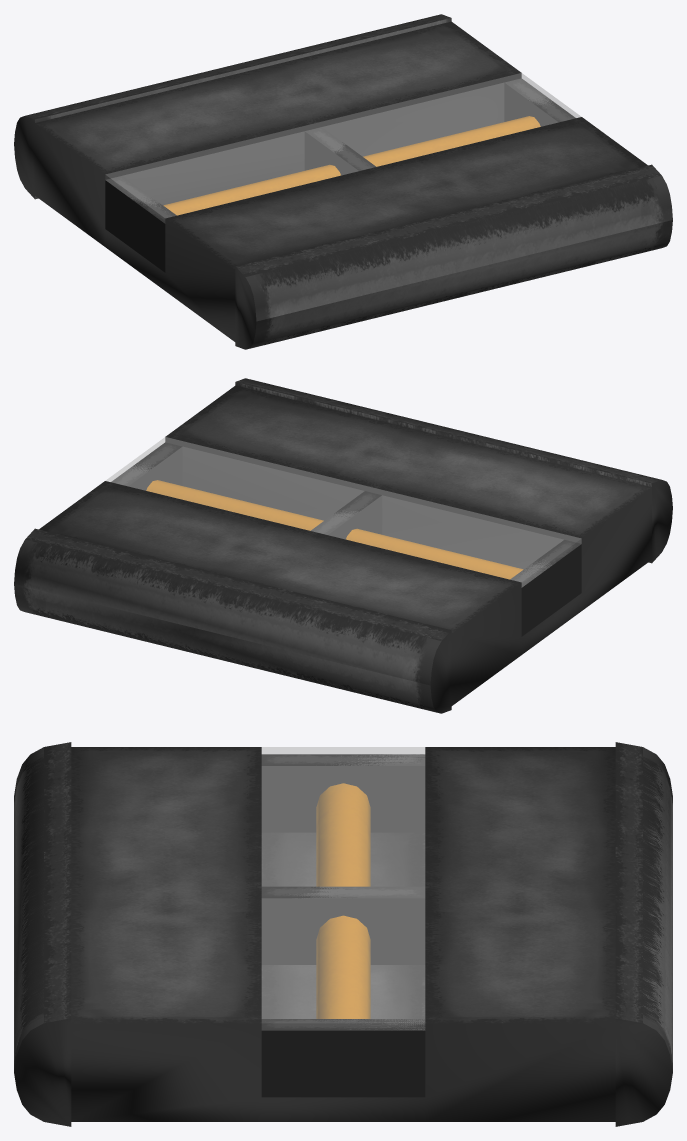
Rendered from platfrom12x12.fbx.
3 views of the same model, one above another, from view 1: azimuth 30°, elevation 25°; view 2: azimuth 150°, elevation 25°; view 3: azimuth 270°, elevation 25° (orthographic). The views are drawn at different scales.
Visible parts, largest first — view 1: Cube.009, Cube.010, Cylinder.001, Cube.008, Cube.006, Cube.005; view 2: Cube.009, Cube.010, Cylinder.001, Cube.008, Cube.006, Cube.005; view 3: Cube.009, Cube.010, Cube.005, Cylinder.001, Cube.006, Cube.008.
Boxes of the visible parts, x1,y1,x2,y2 form: Cube.009: [14, 14, 672, 349]; Cube.010: [105, 73, 581, 222]; Cylinder.001: [163, 116, 540, 215]; Cube.008: [105, 176, 176, 272]; Cube.006: [304, 127, 376, 175]; Cube.005: [504, 78, 575, 126]; Cube.009: [14, 378, 672, 713]; Cube.010: [105, 437, 581, 587]; Cylinder.001: [146, 480, 523, 579]; Cube.008: [510, 539, 581, 636]; Cube.006: [311, 491, 382, 539]; Cube.005: [111, 442, 182, 490]; Cube.009: [14, 742, 672, 1126]; Cube.010: [261, 747, 425, 1030]; Cube.005: [261, 1019, 425, 1097]; Cylinder.001: [316, 783, 370, 1018]; Cube.006: [261, 886, 425, 964]; Cube.008: [261, 754, 425, 832].
Bounding box in the file's own units: 2400 × 440 × 2420.
